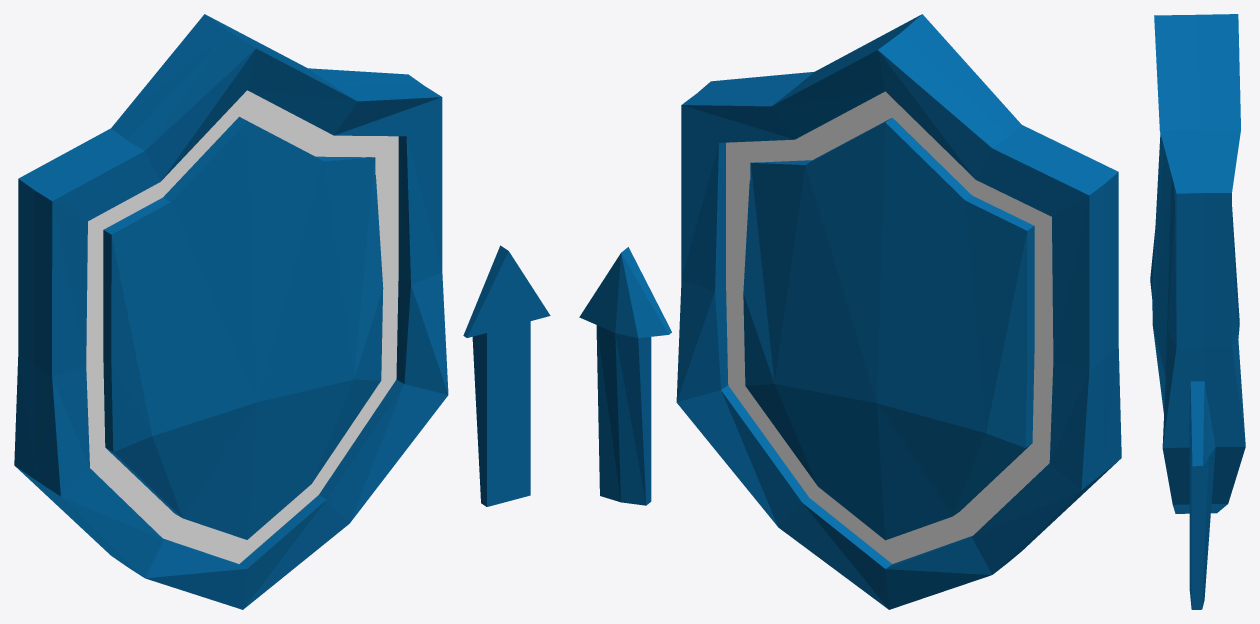
The model's file is defense.FBX.
The picture shows the model from 3 angles, left to right: view 1: azimuth 30°, elevation 25°; view 2: azimuth 150°, elevation 25°; view 3: azimuth 270°, elevation 25°; orthographic projection. The views are drawn at different scales.
Parts seen in each view (by area): view 1: defense; view 2: defense; view 3: defense.
Boxes of the visible parts, x1,y1,x2,y2 form: defense: (14,14,550,609); defense: (579,14,1121,609); defense: (1150,14,1245,609).
Bounding box in the file's own units: 17 × 17.85 × 3.1.
